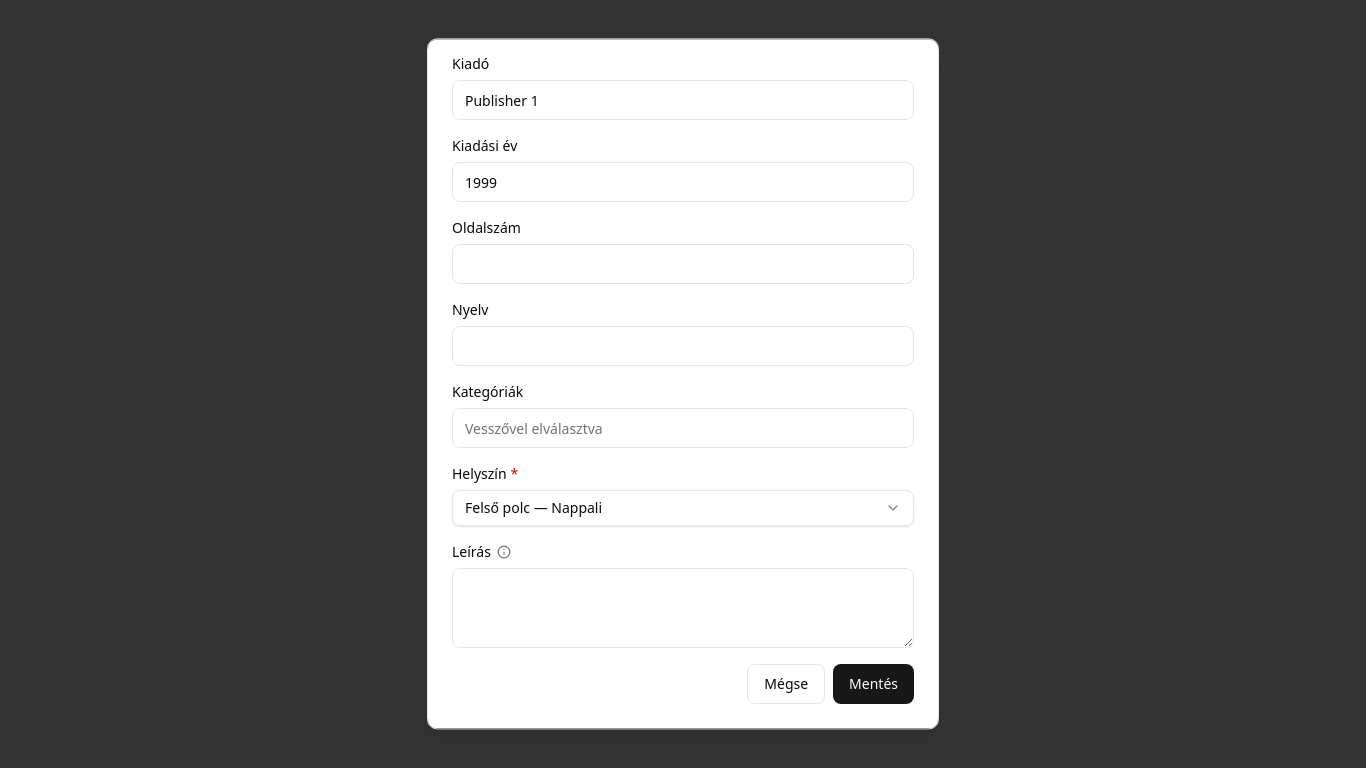
it: BookFormModal — edit mode › shows unexpected error message on 500 response
(page scrolled)
Click the button "Mentés" at {"x": 874, "y": 684}, box [833,664,914,704]
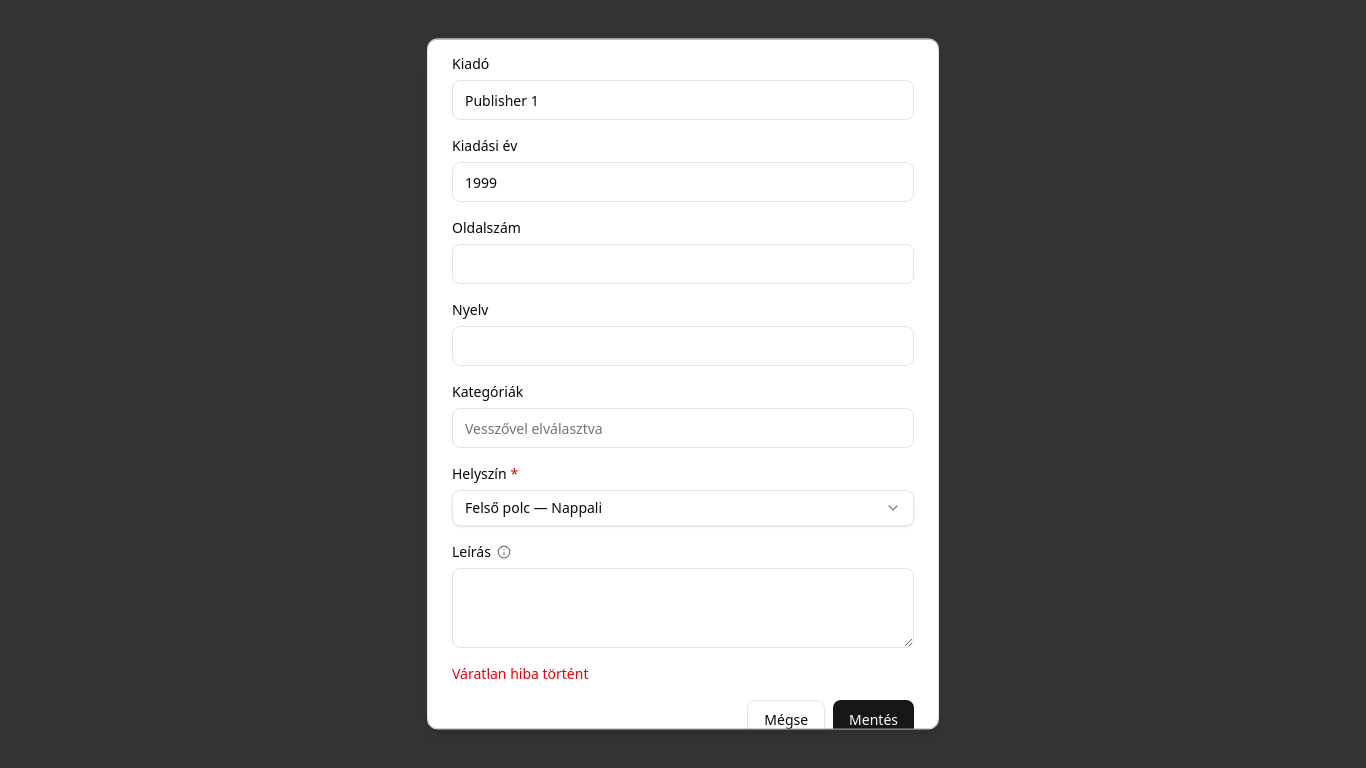
Expected: the text "Váratlan hiba történt" is shown, [452,664,588,683]
